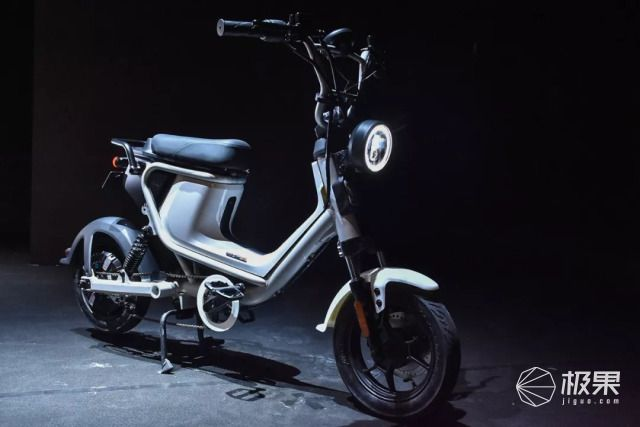电动车: (59, 13, 486, 427)
